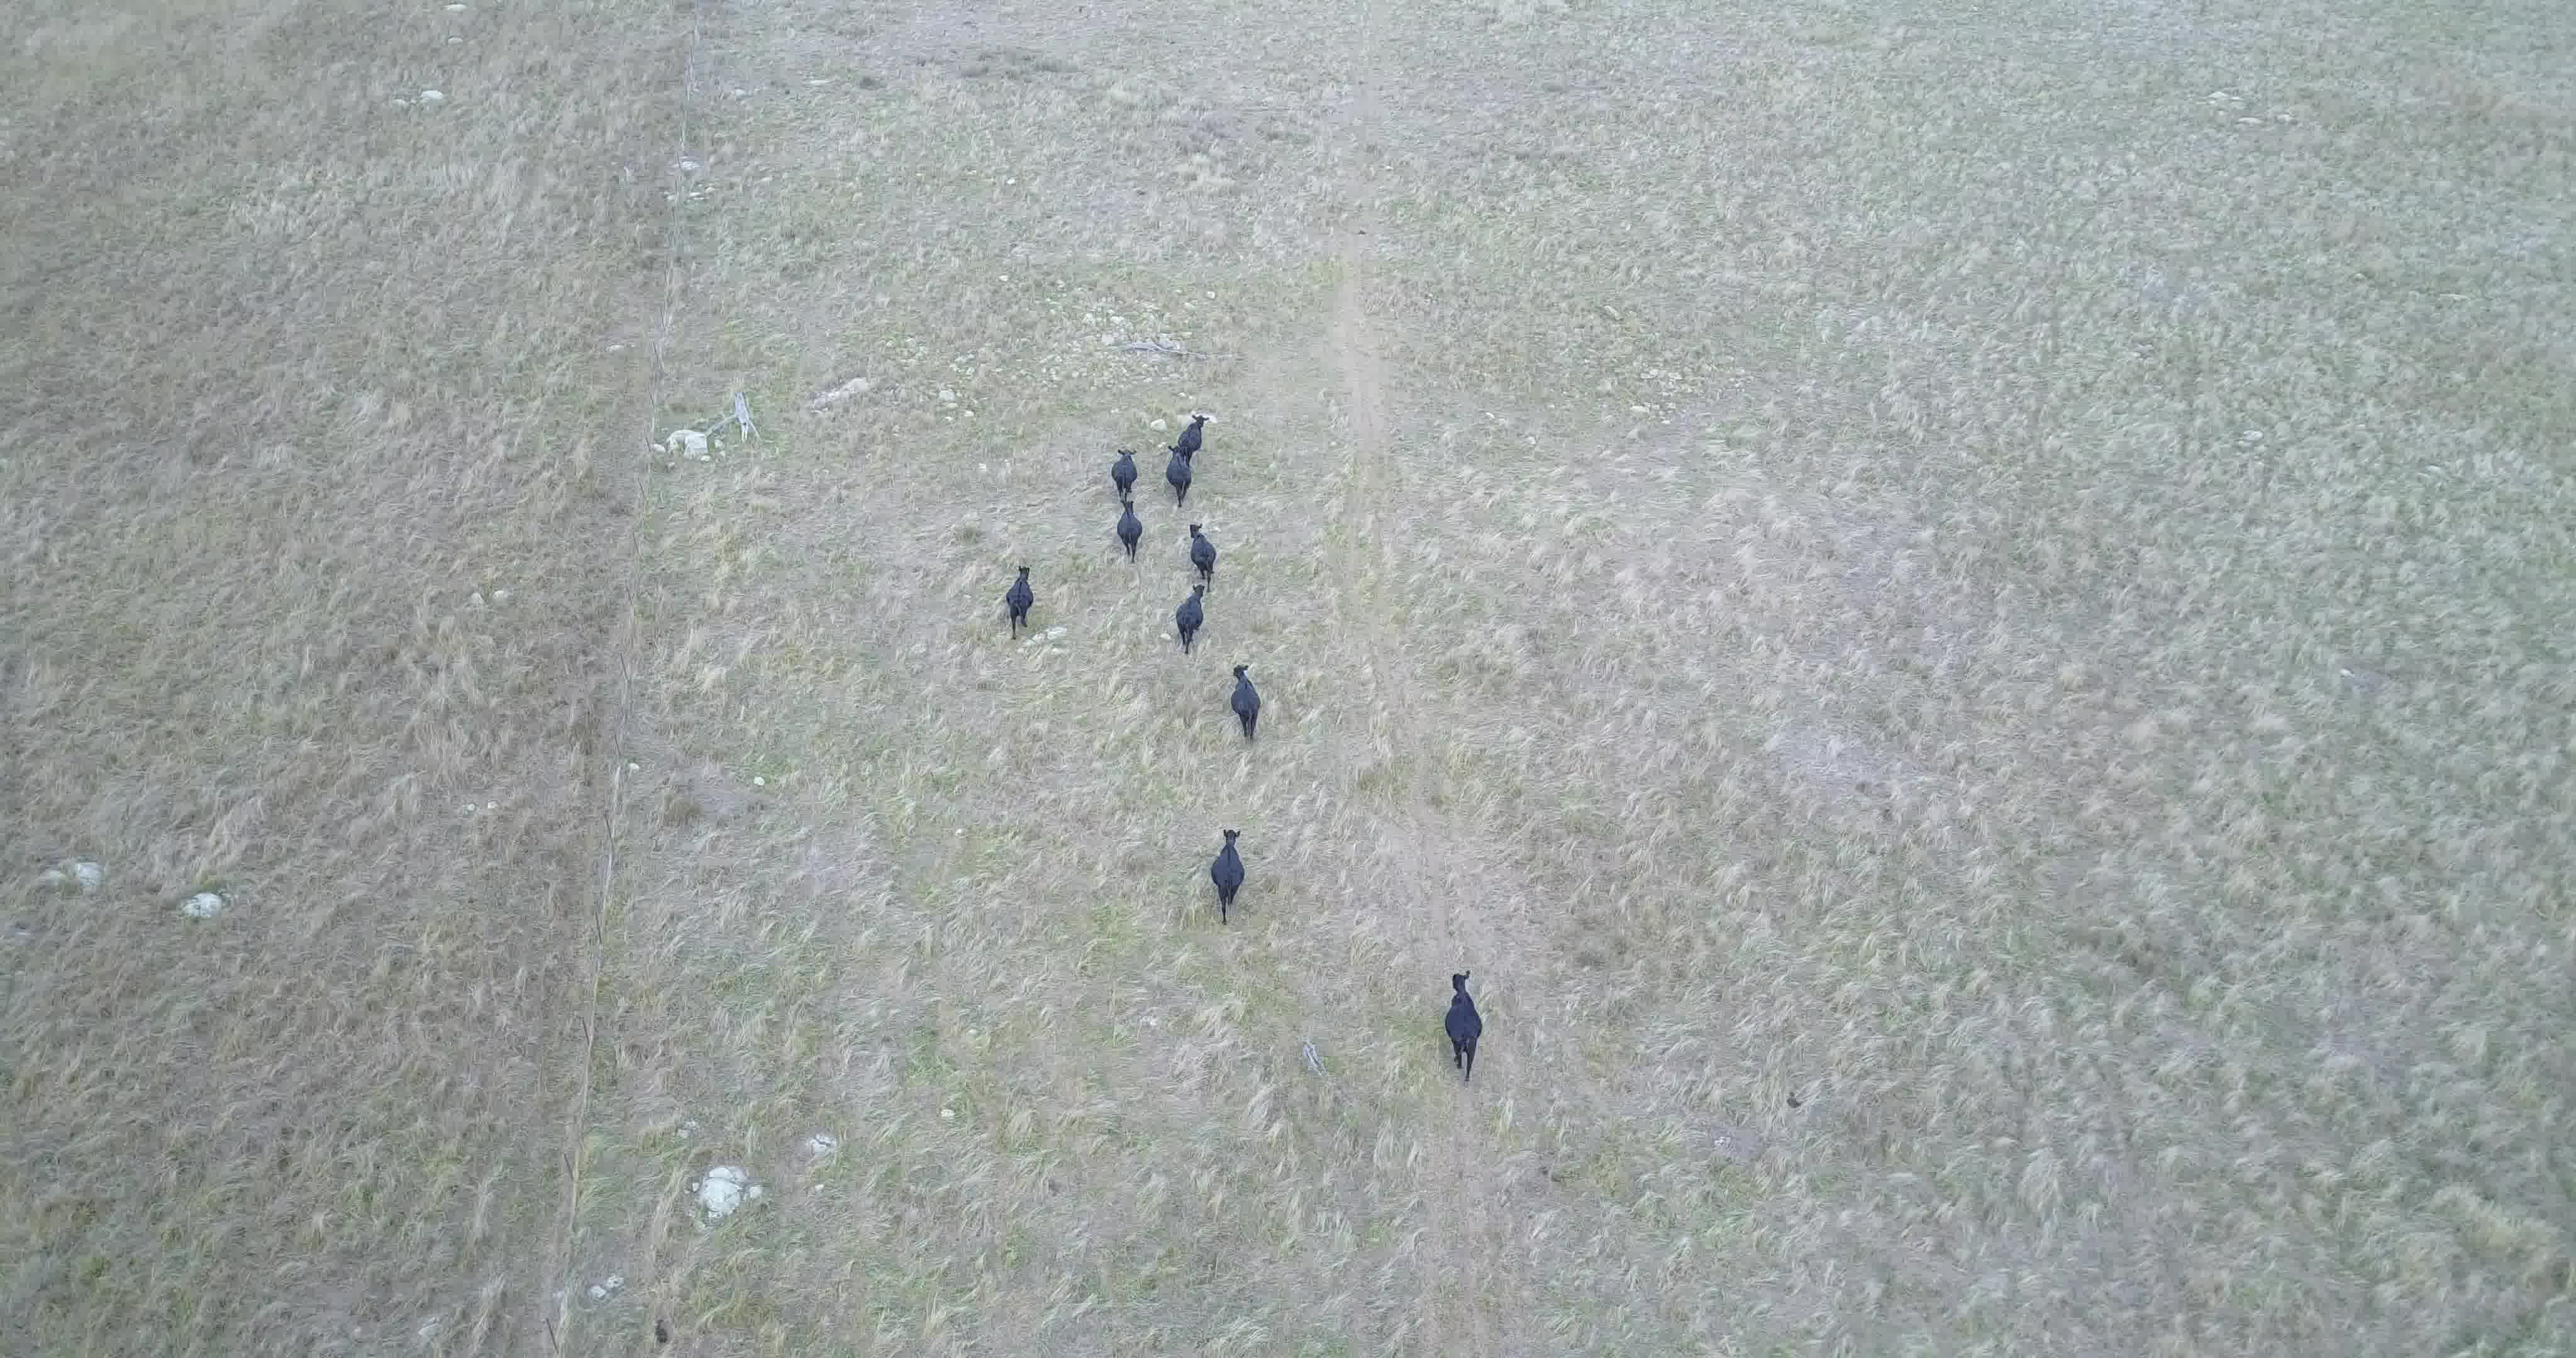cattle: (1440, 968, 1486, 1087), (1206, 823, 1254, 925), (1225, 663, 1264, 746), (1002, 561, 1039, 646), (1174, 586, 1210, 663), (1184, 521, 1220, 586), (1114, 501, 1150, 561), (1164, 446, 1196, 504), (1107, 448, 1141, 503), (1176, 414, 1208, 462)
